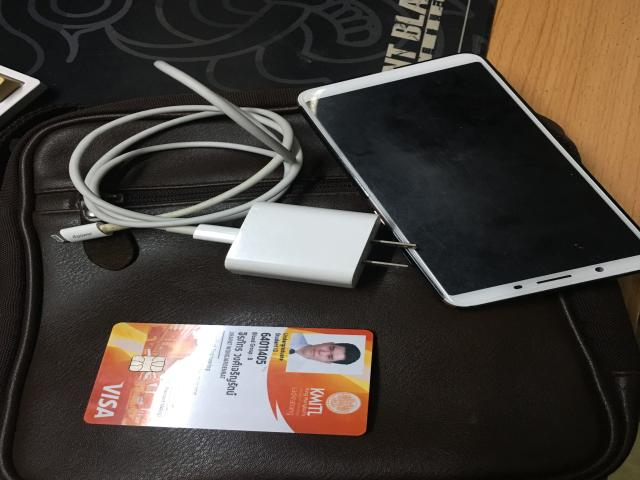Mobile phone: (298, 53, 640, 307)
wire: (60, 61, 383, 291)
